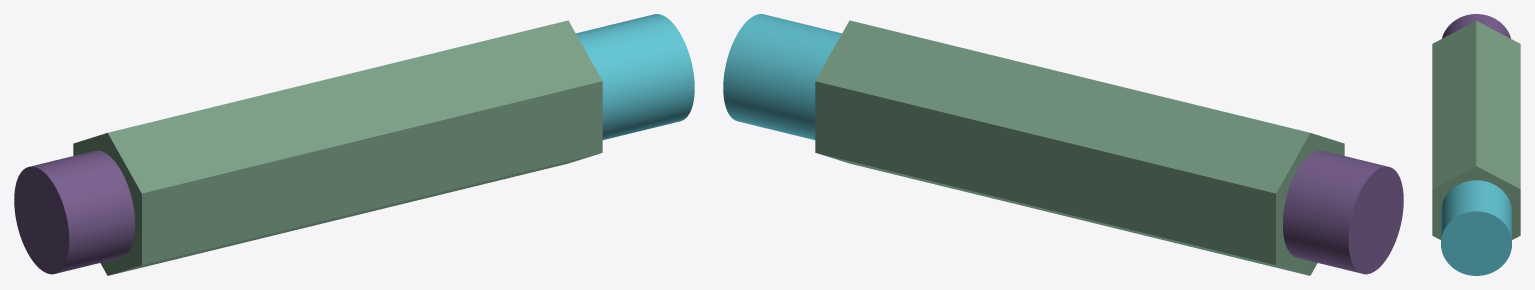
Rendered from 1_canonical.obj.
3 views of the same model, side by side, from view 1: azimuth 30°, elevation 25°; view 2: azimuth 150°, elevation 25°; view 3: azimuth 270°, elevation 25° (orthographic). The views are drawn at different scales.
Visible parts, largest first — view 1: geometry_0, geometry_1, geometry_2; view 2: geometry_0, geometry_1, geometry_2; view 3: geometry_0, geometry_2, geometry_1.
Boxes of the visible parts, bbox=[...] form: geometry_0: bbox=[73, 20, 602, 275]; geometry_1: bbox=[14, 150, 134, 274]; geometry_2: bbox=[576, 14, 694, 139]; geometry_0: bbox=[815, 20, 1344, 275]; geometry_1: bbox=[1283, 150, 1403, 274]; geometry_2: bbox=[723, 14, 841, 139]; geometry_0: bbox=[1432, 21, 1520, 239]; geometry_2: bbox=[1441, 180, 1511, 275]; geometry_1: bbox=[1442, 14, 1510, 38].
Size of the model in its own units: 0.095 by 0.0208 by 0.018.
